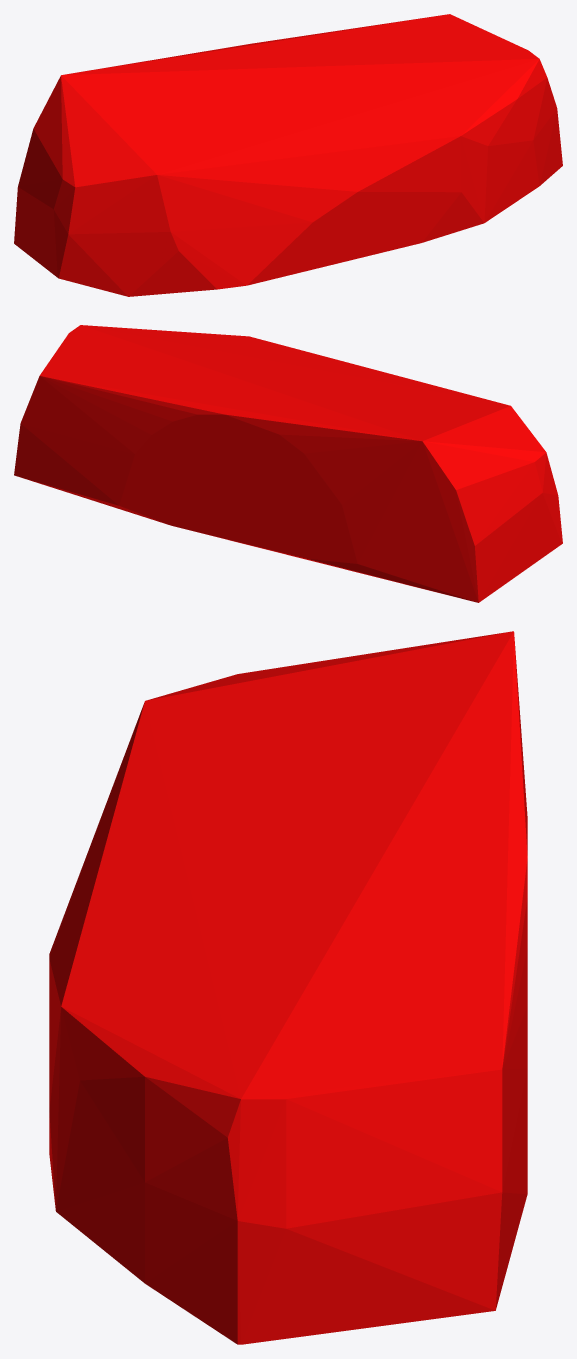
The model's file is tip_006_1_convex_hull_02.obj.
3 renders of one model, top to bottom at view 1: azimuth 30°, elevation 25°; view 2: azimuth 150°, elevation 25°; view 3: azimuth 270°, elevation 25°, orthographic. The views are drawn at different scales.
Parts seen in each view (by area): view 1: tip_006_1_convex_hull_02; view 2: tip_006_1_convex_hull_02; view 3: tip_006_1_convex_hull_02.
Boxes of the visible parts, box(x1,y1,x2,y2) form: tip_006_1_convex_hull_02: box(14, 14, 562, 296); tip_006_1_convex_hull_02: box(14, 325, 562, 602); tip_006_1_convex_hull_02: box(49, 631, 527, 1344).
Size of the model in its own units: 0.00482 by 0.0014 by 0.00198.
